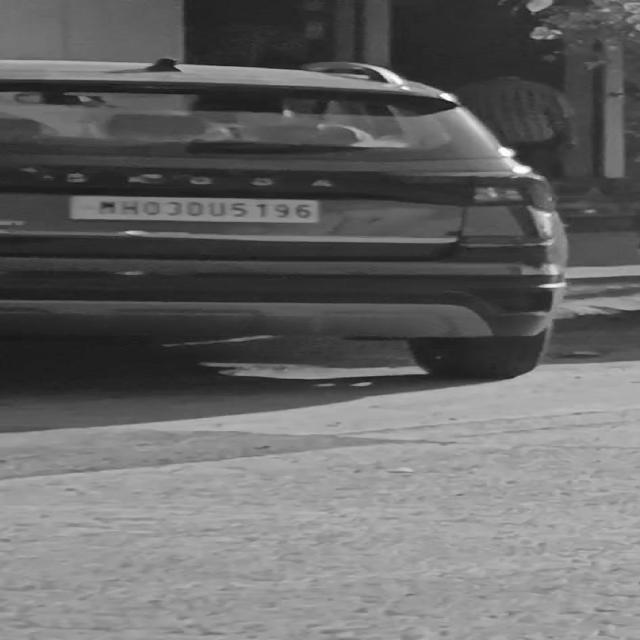car: (0, 51, 595, 389)
license-plate: (58, 196, 338, 227)
